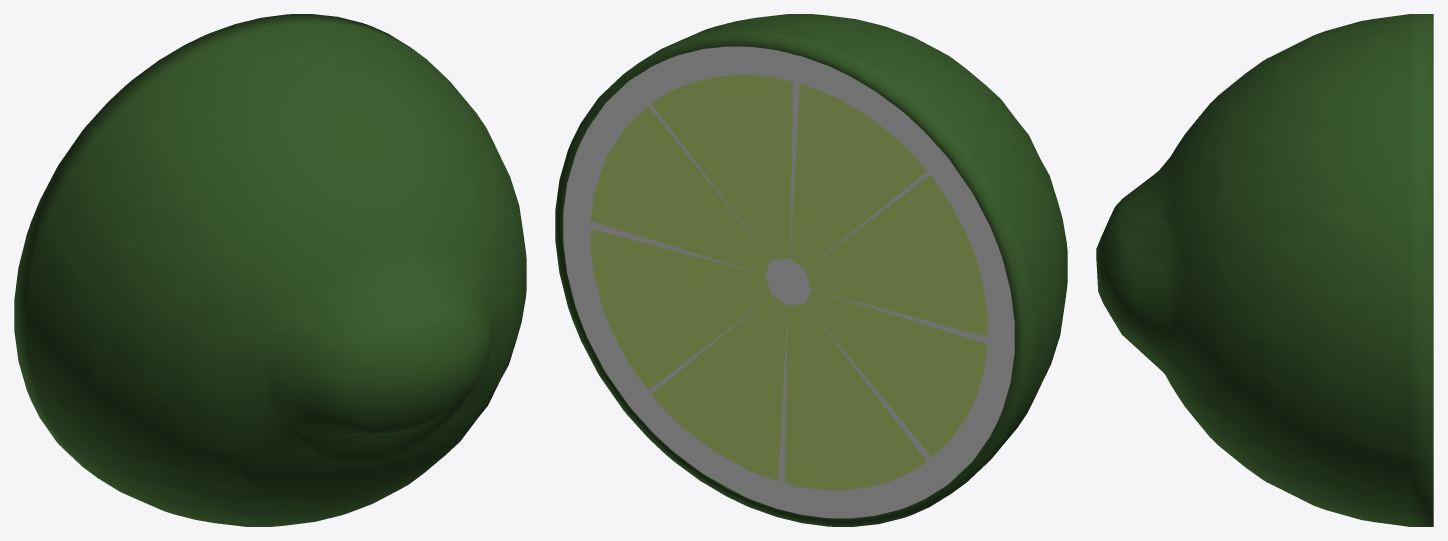
File: halfLime.fbx
3 renders of one model, left to right at view 1: azimuth 30°, elevation 25°; view 2: azimuth 150°, elevation 25°; view 3: azimuth 270°, elevation 25°, orthographic. The views are drawn at different scales.
Parts seen in each view (by area): view 1: skin; view 2: insides, whites, skin; view 3: skin.
Boxes of the visible parts, x1,y1,x2,y2 form: skin: [14, 14, 526, 526]; insides: [590, 75, 987, 490]; whites: [563, 46, 1014, 518]; skin: [555, 14, 1067, 526]; skin: [1096, 14, 1433, 526].
Size of the model in its own units: 280 by 272 by 180.
